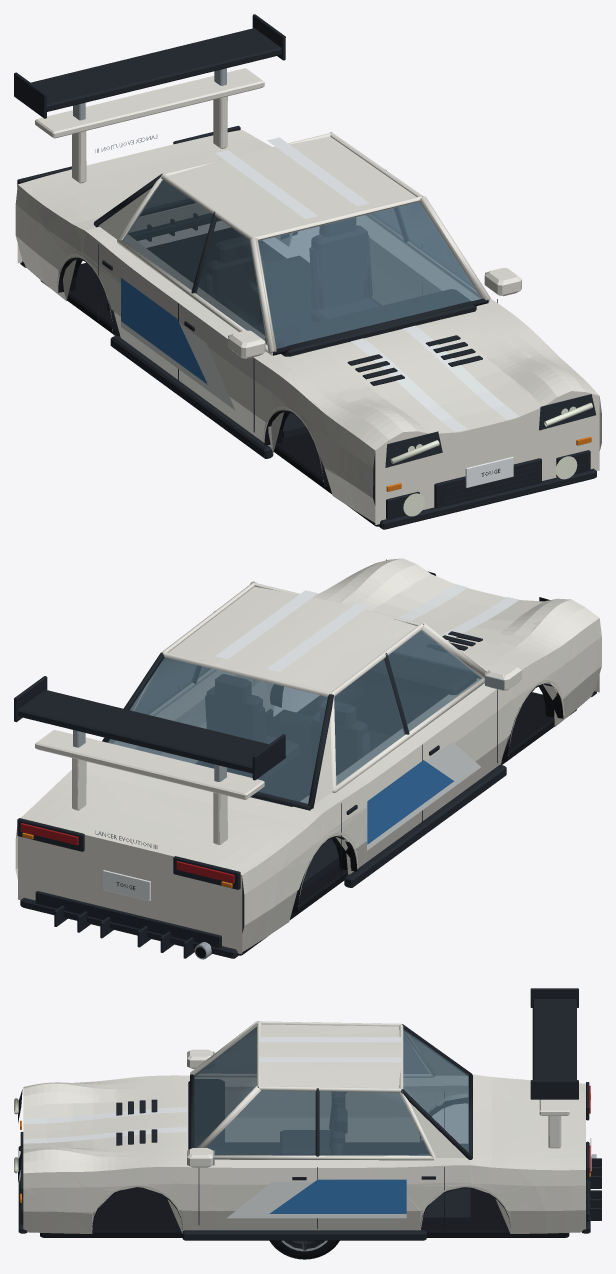
Rendered from evo3.glb.
3 views of the same model, one above another, from view 1: azimuth 30°, elevation 25°; view 2: azimuth 150°, elevation 25°; view 3: azimuth 270°, elevation 25° (orthographic). The views are drawn at different scales.
Visible parts, largest first — view 1: LOD0_body, LOD0_cabin, LOD0_glass, LOD1_glass, LOD1_body, LOD0_hood, LOD1_hood, LOD1_spoiler_gt, LOD0_spoiler_stock, LOD1_cabin, LOD0_vinyl_apex, LOD0_spoiler_gt (+3 smaller); view 2: LOD0_body, LOD0_cabin, LOD1_body, LOD0_glass, LOD1_glass, LOD1_cabin, LOD1_spoiler_gt, LOD0_spoiler_stock, LOD0_hood, LOD1_hood, LOD0_vinyl_apex, LOD0_spoiler_gt (+3 smaller); view 3: LOD0_body, LOD1_body, LOD1_glass, LOD0_glass, LOD0_cabin, LOD0_hood, LOD0_vinyl_apex, LOD1_cabin, LOD1_hood, LOD1_spoiler_gt, LOD0_vinyl_twin, LOD0_spoiler_gt (+4 smaller).
Part boxes in pixels (<box>): LOD0_body: <box>15,126,601,529</box>; LOD0_cabin: <box>93,132,490,438</box>; LOD0_glass: <box>122,180,481,348</box>; LOD1_glass: <box>123,180,481,348</box>; LOD1_body: <box>17,127,601,529</box>; LOD0_hood: <box>276,307,585,439</box>; LOD1_hood: <box>294,312,558,433</box>; LOD1_spoiler_gt: <box>17,28,285,119</box>; LOD0_spoiler_stock: <box>35,68,264,183</box>; LOD1_cabin: <box>95,133,486,437</box>; LOD0_vinyl_apex: <box>121,278,235,410</box>; LOD0_spoiler_gt: <box>14,14,285,120</box>; LOD0_body: <box>17,559,601,959</box>; LOD0_cabin: <box>102,581,486,890</box>; LOD1_body: <box>15,563,601,958</box>; LOD0_glass: <box>108,630,481,803</box>; LOD1_glass: <box>108,630,481,803</box>; LOD1_cabin: <box>162,582,485,888</box>; LOD1_spoiler_gt: <box>14,676,285,781</box>; LOD0_spoiler_stock: <box>35,730,264,844</box>; LOD0_hood: <box>326,558,585,680</box>; LOD1_hood: <box>340,563,544,658</box>; LOD0_vinyl_apex: <box>367,742,480,850</box>; LOD0_spoiler_gt: <box>14,676,285,781</box>; LOD0_body: <box>14,1049,601,1240</box>; LOD1_body: <box>14,1049,596,1240</box>; LOD1_glass: <box>194,1027,468,1155</box>; LOD0_glass: <box>194,1027,468,1155</box>; LOD0_cabin: <box>188,1021,472,1222</box>; LOD0_hood: <box>23,1081,189,1163</box>; LOD0_vinyl_apex: <box>227,1179,406,1218</box>; LOD1_cabin: <box>189,1021,472,1222</box>; LOD1_hood: <box>23,1084,188,1157</box>; LOD1_spoiler_gt: <box>530,989,578,1099</box>; LOD0_vinyl_twin: <box>28,1037,401,1143</box>; LOD0_spoiler_gt: <box>530,988,578,1099</box>.
Bounding box in the file's own units: 1.96 × 1.86 × 4.5.
